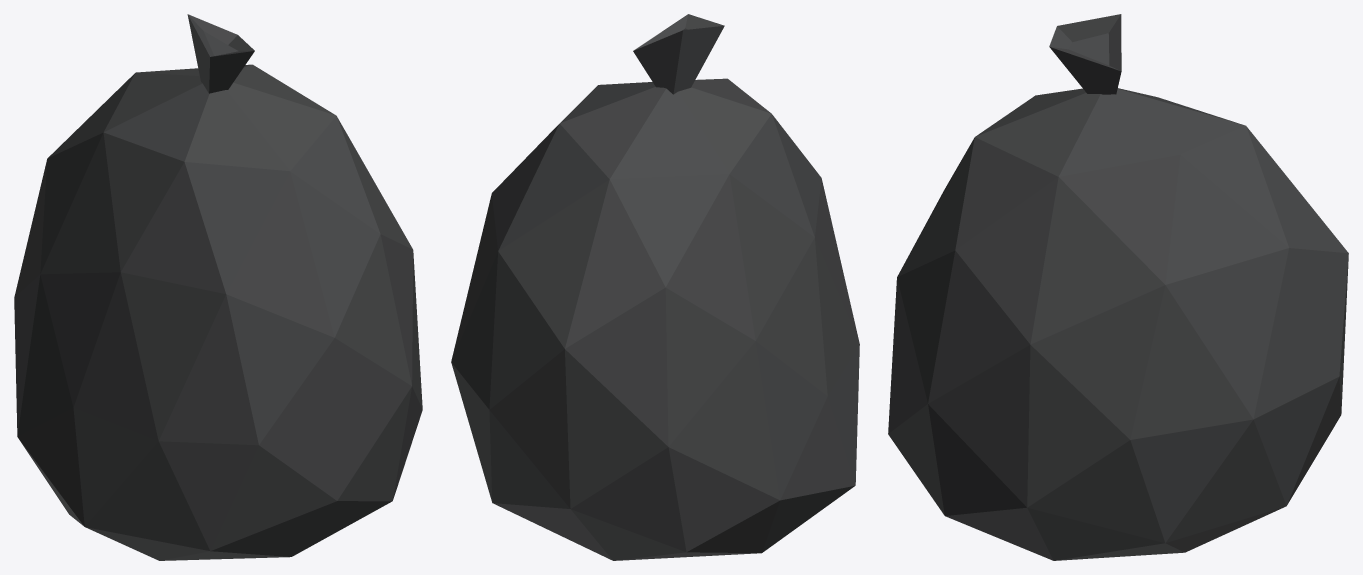
The model's file is SM_sack_garbage_02.fbx.
3 renders of one model, left to right at view 1: azimuth 30°, elevation 25°; view 2: azimuth 150°, elevation 25°; view 3: azimuth 270°, elevation 25°, orthographic.
Parts seen in each view (by area): view 1: GeoSphere004; view 2: GeoSphere004; view 3: GeoSphere004.
Boxes of the visible parts, box(x1,y1,x2,y2) form: GeoSphere004: box(14, 14, 422, 560); GeoSphere004: box(451, 14, 859, 560); GeoSphere004: box(888, 14, 1348, 560).
Size of the model in its own units: 18.75 by 22.03 by 26.26.
